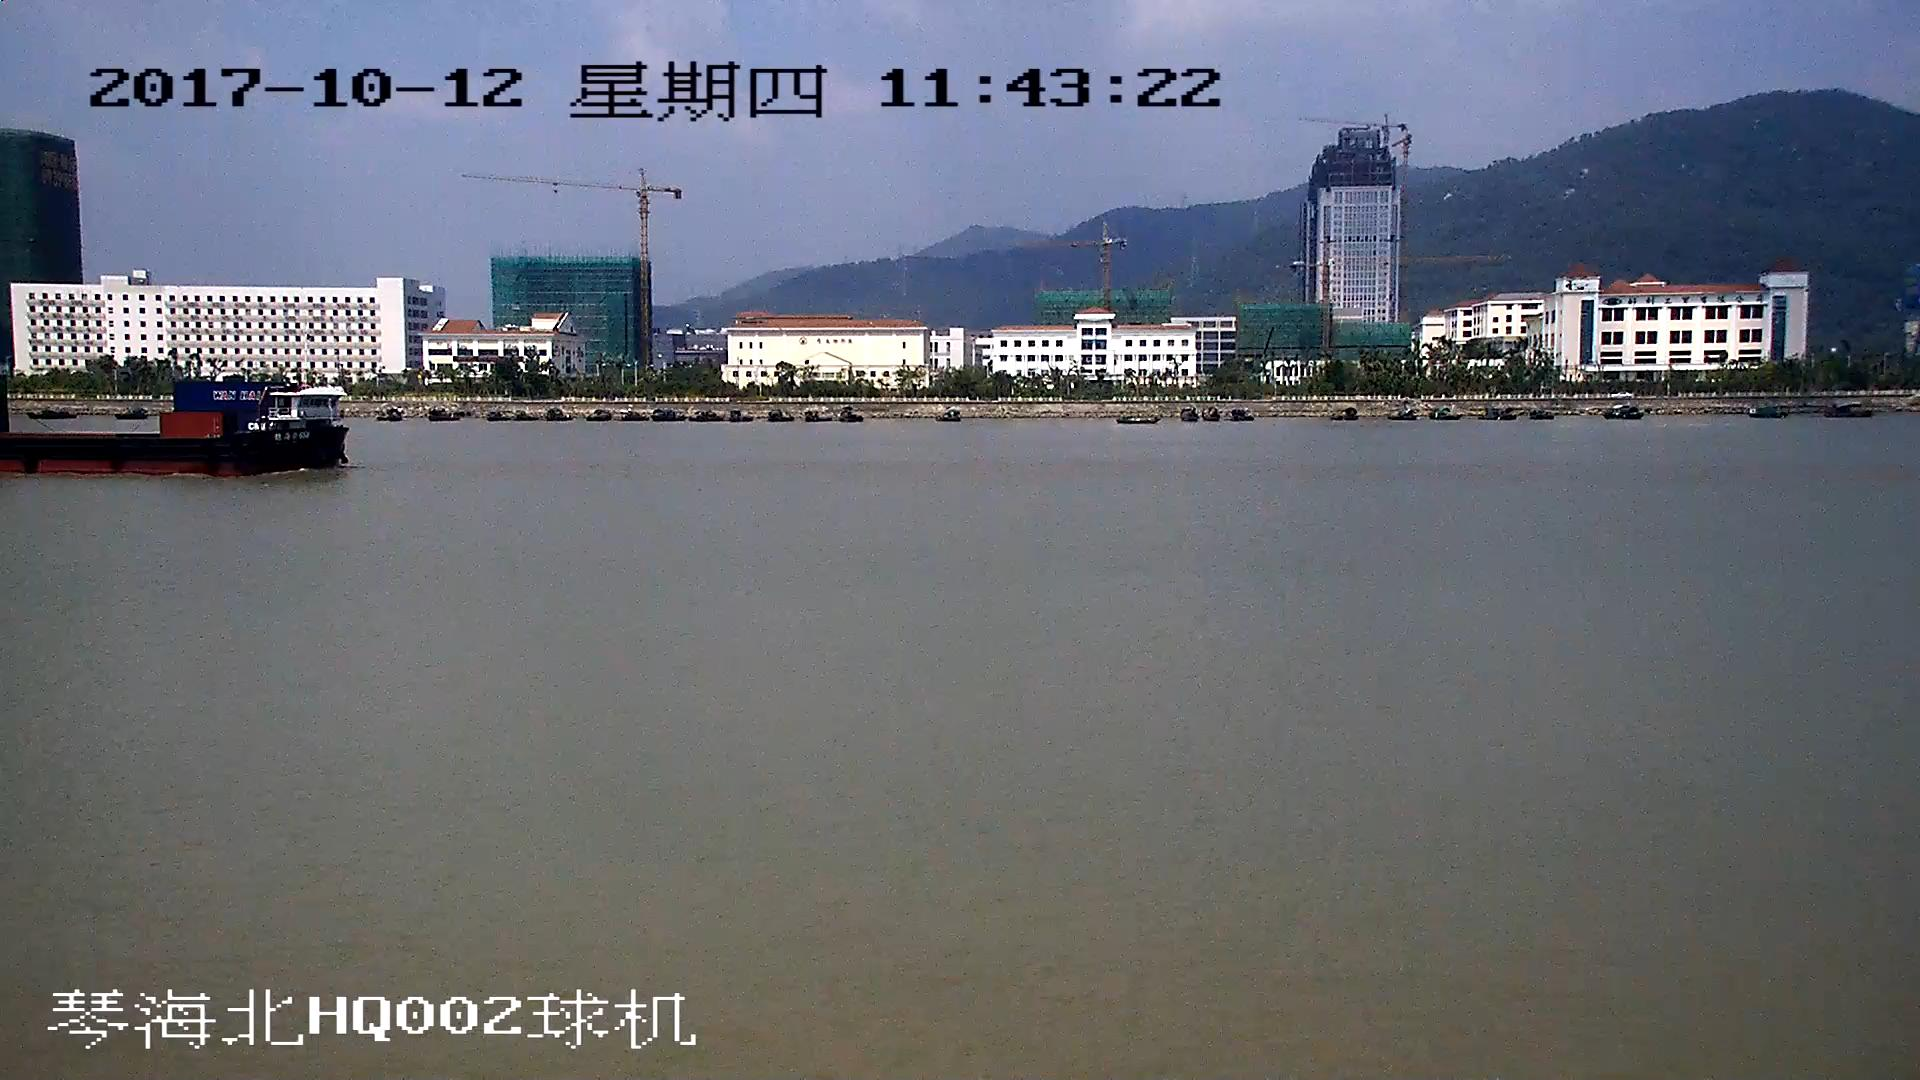container ship: (1, 378, 347, 476)
